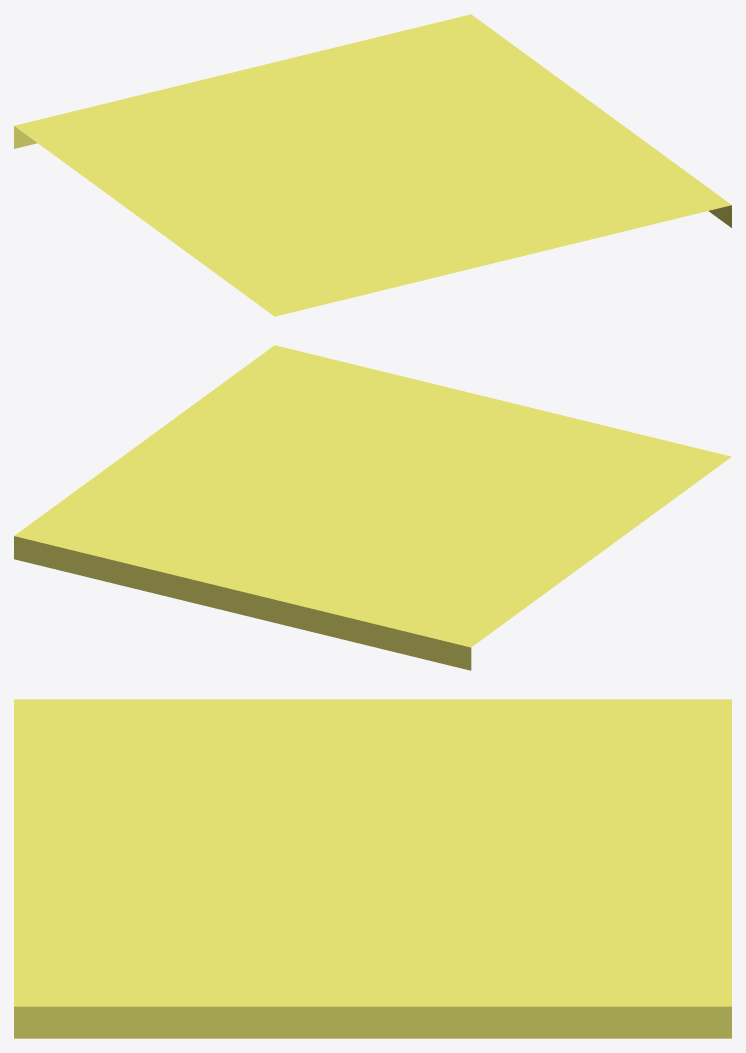
File: case30.gltf
3 renders of one model, top to bottom at view 1: azimuth 30°, elevation 25°; view 2: azimuth 150°, elevation 25°; view 3: azimuth 270°, elevation 25°, orthographic. The views are drawn at different scales.
Parts seen in each view (by area): view 1: a3; view 2: a3; view 3: a3.
Boxes of the visible parts, x1,y1,x2,y2 form: a3: (14, 14, 731, 316); a3: (14, 345, 731, 670); a3: (14, 699, 731, 1038).
Size of the model in its own units: 0.5143 by 0.025 by 0.5081.
